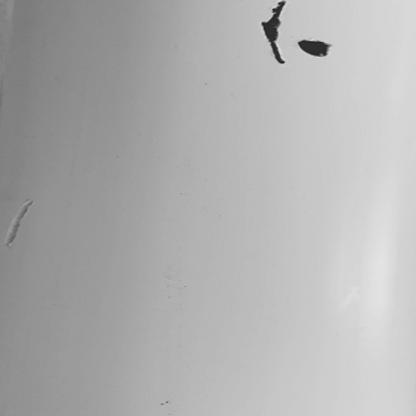kongdong: (262, 1, 288, 67), (297, 37, 333, 59)
sunshang: (3, 201, 33, 249)
